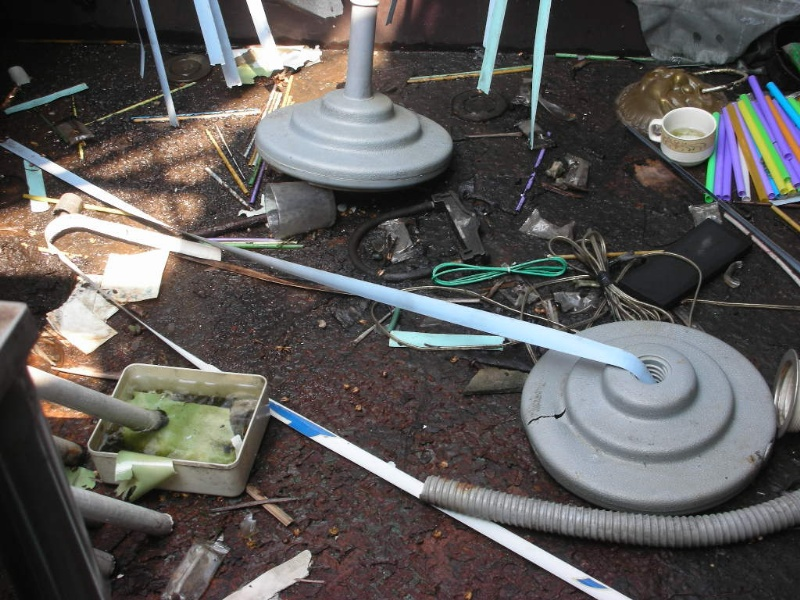bottle: (262, 178, 339, 240)
bowl: (648, 106, 720, 170)
box: (84, 361, 271, 500)
